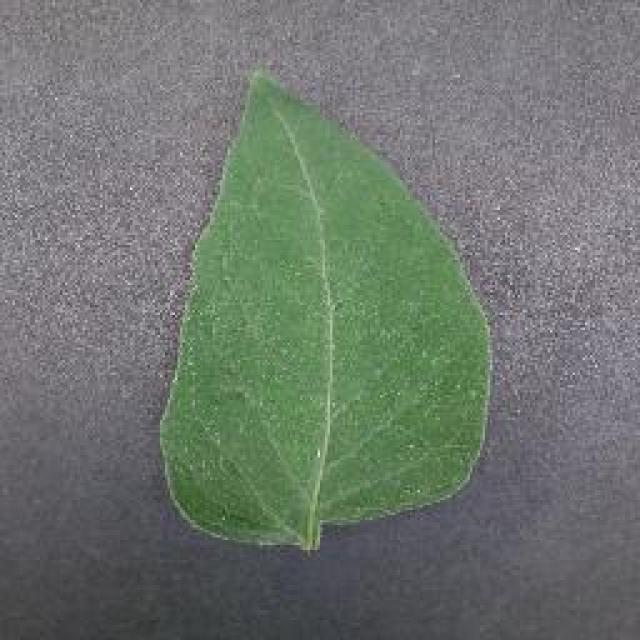healthy: (155, 72, 499, 548)
